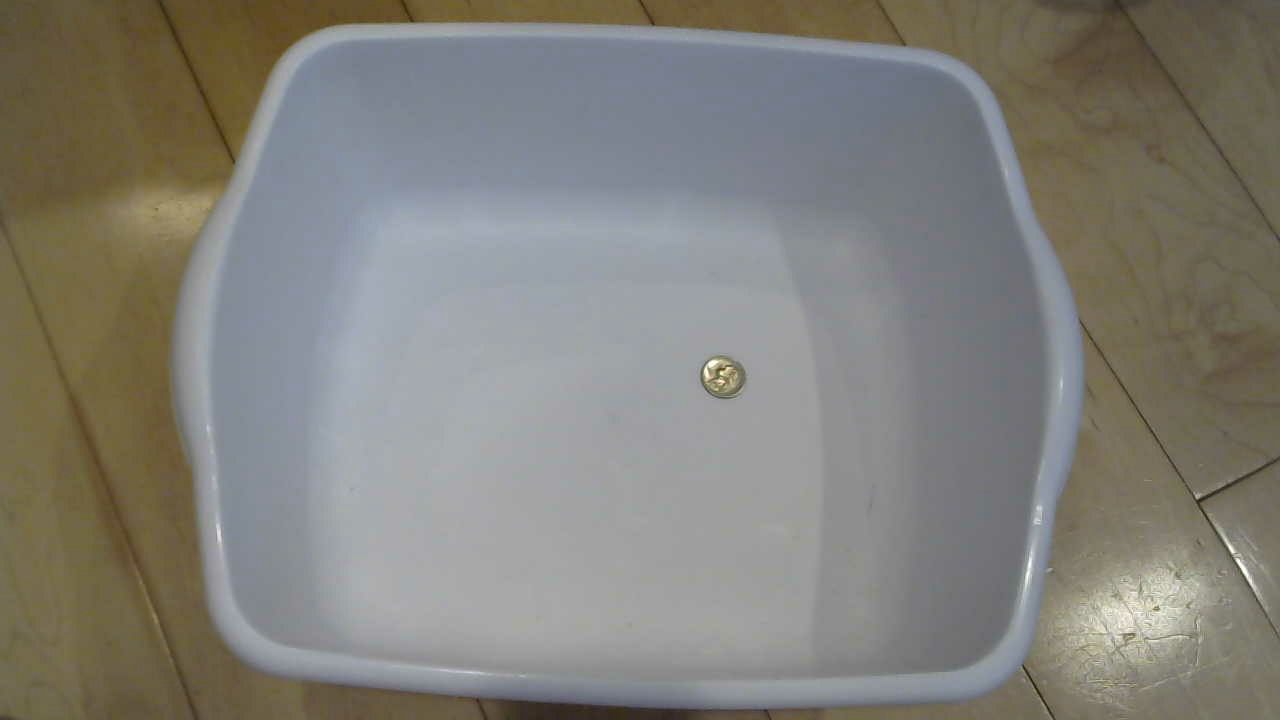coin: (700, 353, 764, 412)
